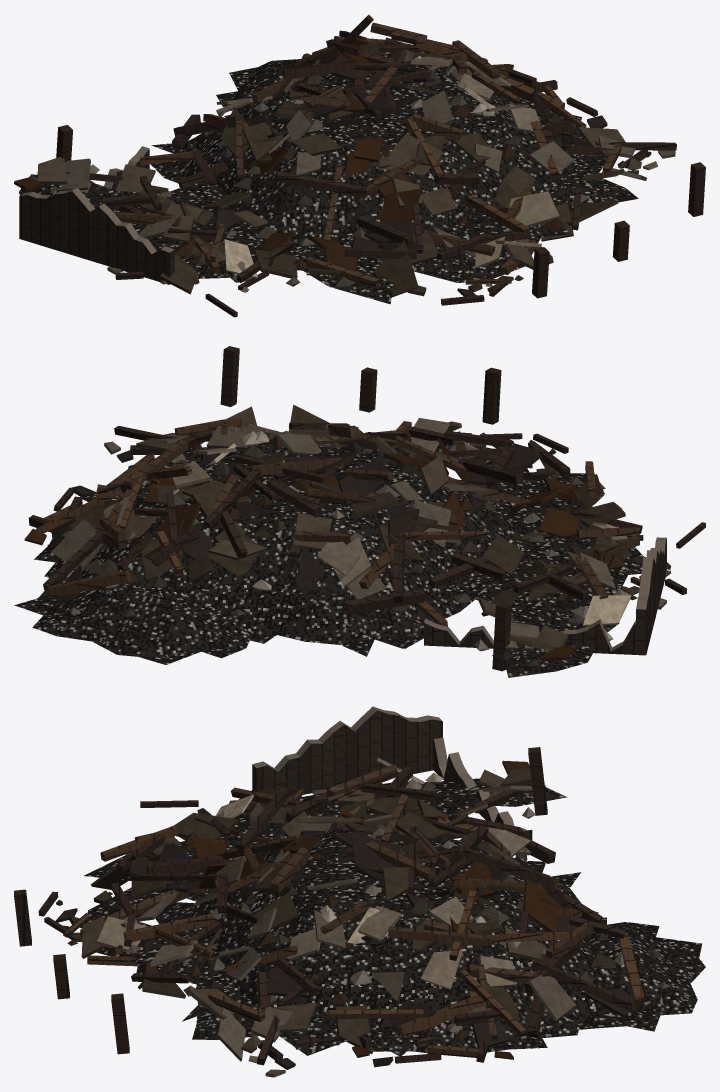
The model's file is Arabuild05b.glb.
3 renders of one model, top to bottom at view 1: azimuth 30°, elevation 25°; view 2: azimuth 150°, elevation 25°; view 3: azimuth 270°, elevation 25°, orthographic. The views are drawn at different scales.
Parts seen in each view (by area): view 1: Arabuild05b_ash; view 2: Arabuild05b_ash; view 3: Arabuild05b_ash.
Boxes of the visible parts, <box> form: Arabuild05b_ash: <box>14,15,705,317</box>; Arabuild05b_ash: <box>14,346,705,677</box>; Arabuild05b_ash: <box>14,706,705,1077</box>.
Size of the model in its own units: 17.04 by 2.95 by 15.94.
21 materials, 20 textured.
